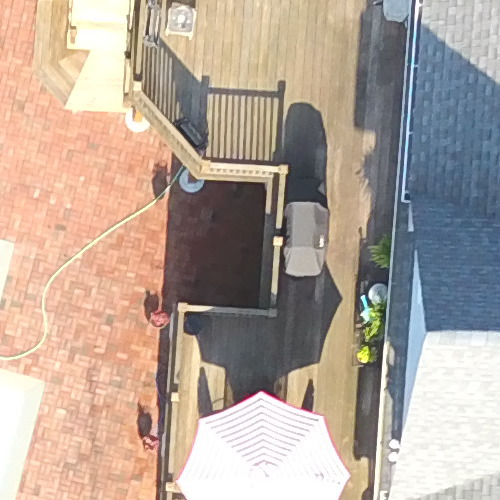porch: (76, 1, 437, 496)
umbrella: (166, 389, 351, 500)
